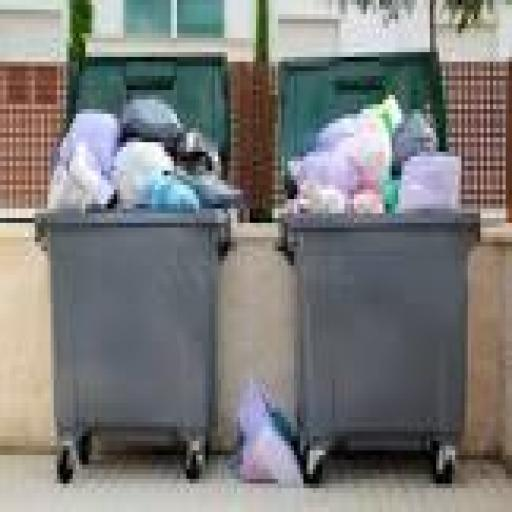poubelle_pleine: (262, 37, 481, 493), (33, 48, 261, 476)
